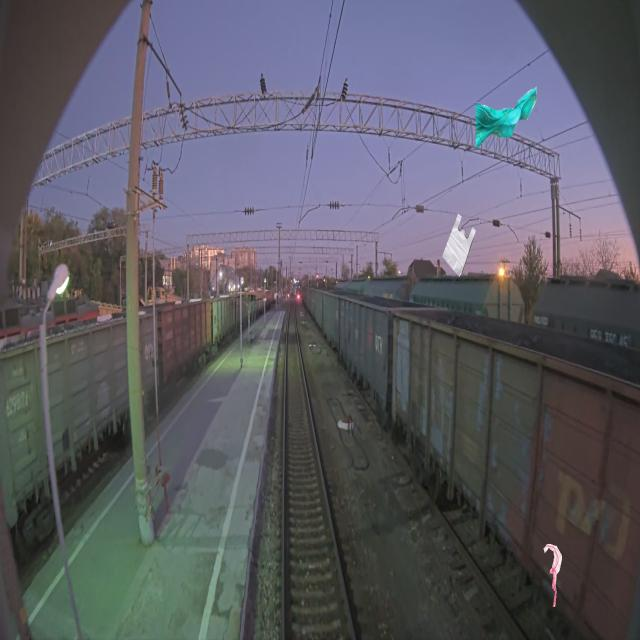floating object: (474, 86, 537, 150), (544, 543, 562, 607)
plastic bag: (442, 214, 476, 278)
